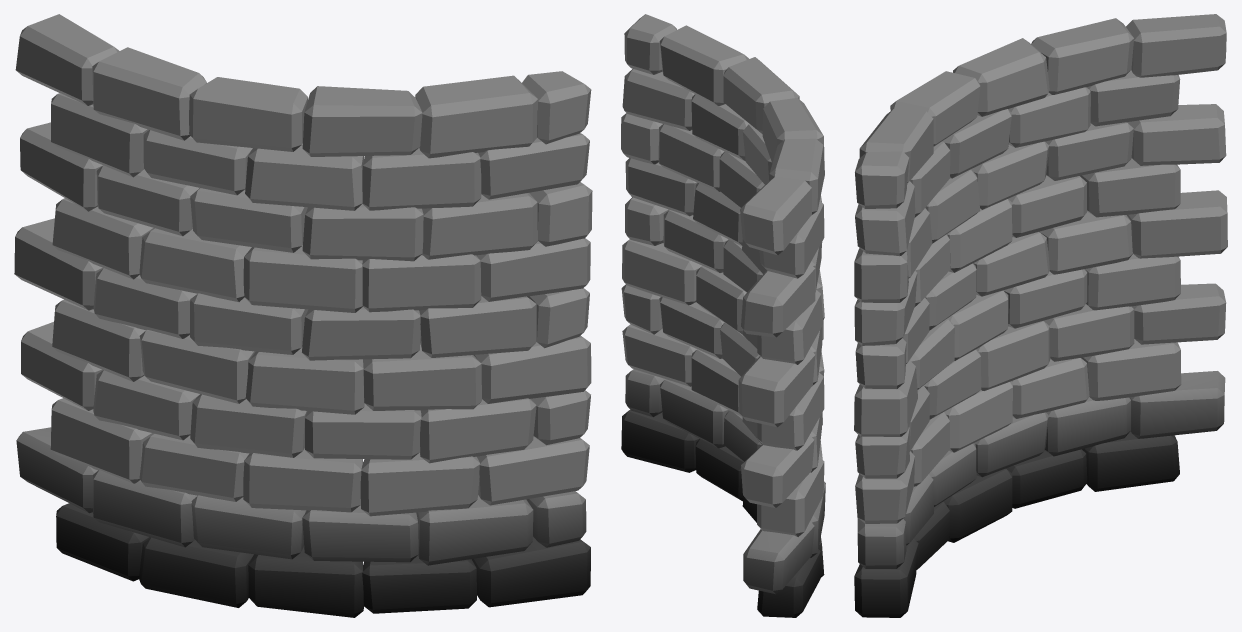
File: BrickWall2x2_01_T90_End_L.fbx
3 renders of one model, left to right at view 1: azimuth 30°, elevation 25°; view 2: azimuth 150°, elevation 25°; view 3: azimuth 270°, elevation 25°, orthographic. The views are drawn at different scales.
Visible parts, largest first — view 1: BrickWall2x2_01_T90_End_L; view 2: BrickWall2x2_01_T90_End_L; view 3: BrickWall2x2_01_T90_End_L.
Part boxes in pixels (x1,y1,x2,y2): BrickWall2x2_01_T90_End_L: (14,14,592,617); BrickWall2x2_01_T90_End_L: (621,14,825,617); BrickWall2x2_01_T90_End_L: (854,14,1227,617).
Size of the model in its own units: 154 by 202 by 150.
